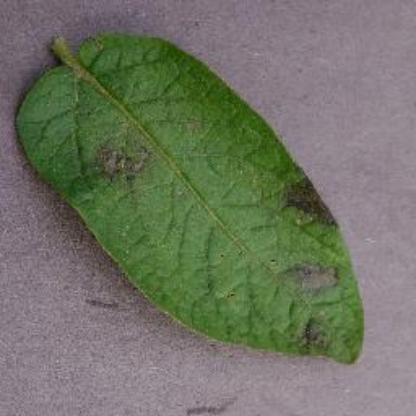Late-Blight: (15, 9, 358, 387)
